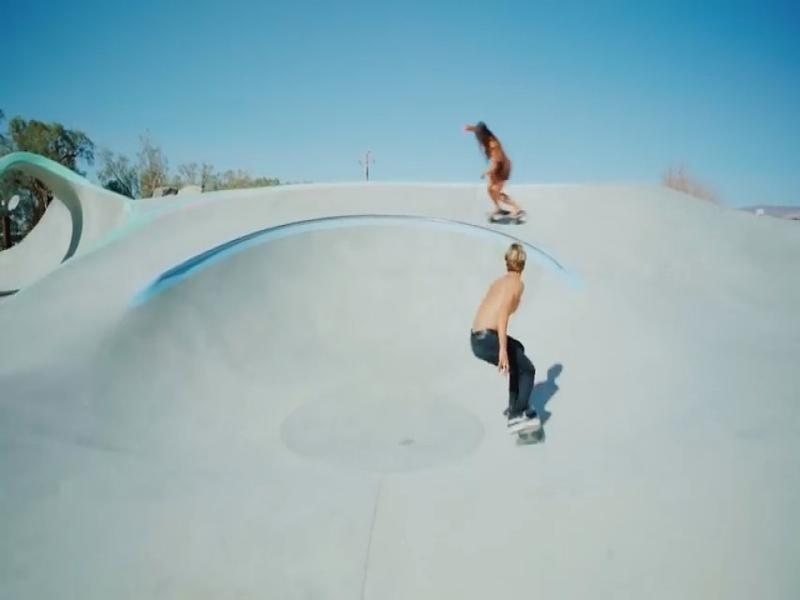person: (470, 244, 541, 435), (464, 123, 522, 218)
skate: (510, 418, 552, 446), (482, 211, 536, 227)
